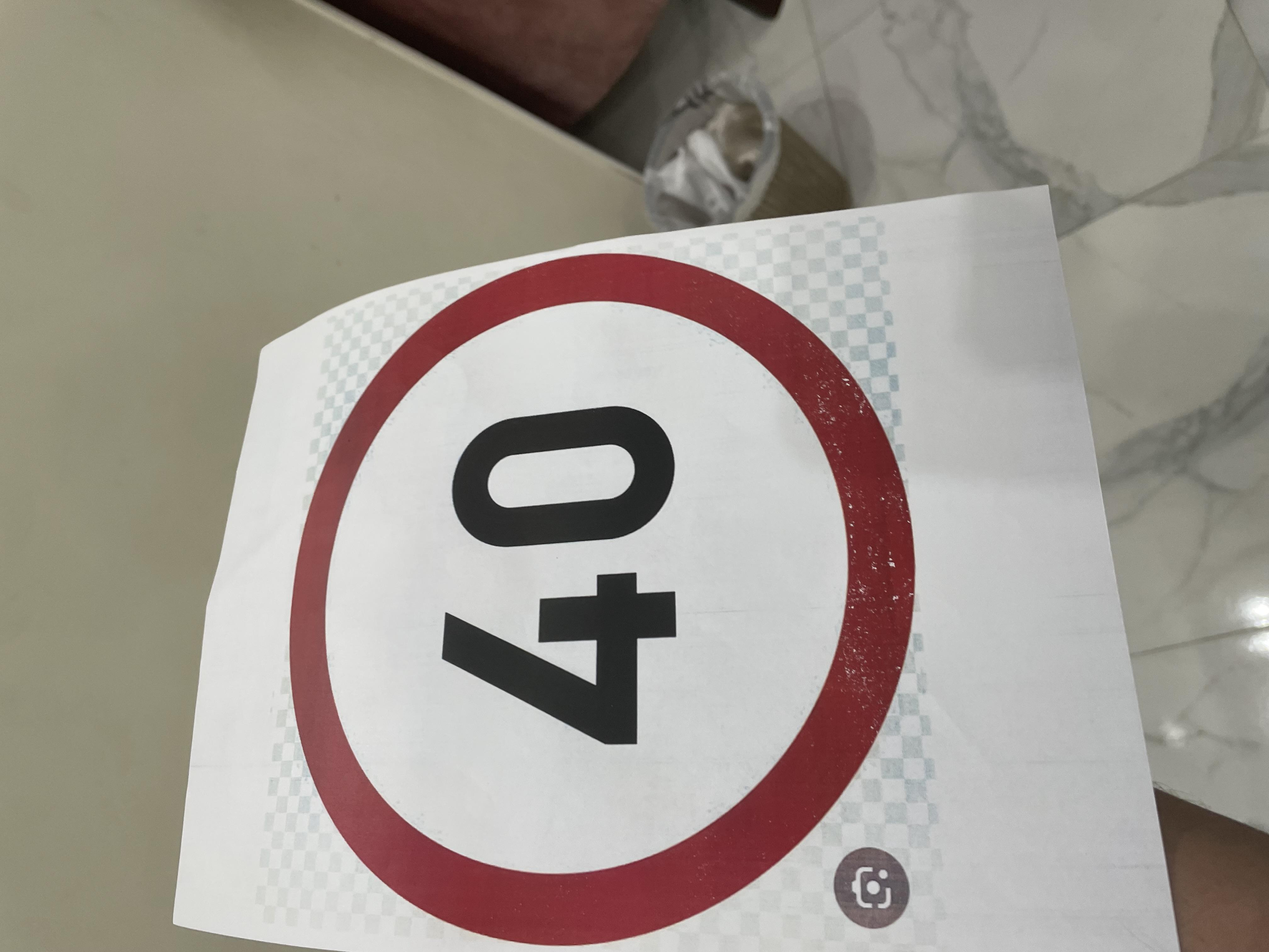40-Speed: (18, 206, 945, 687)
